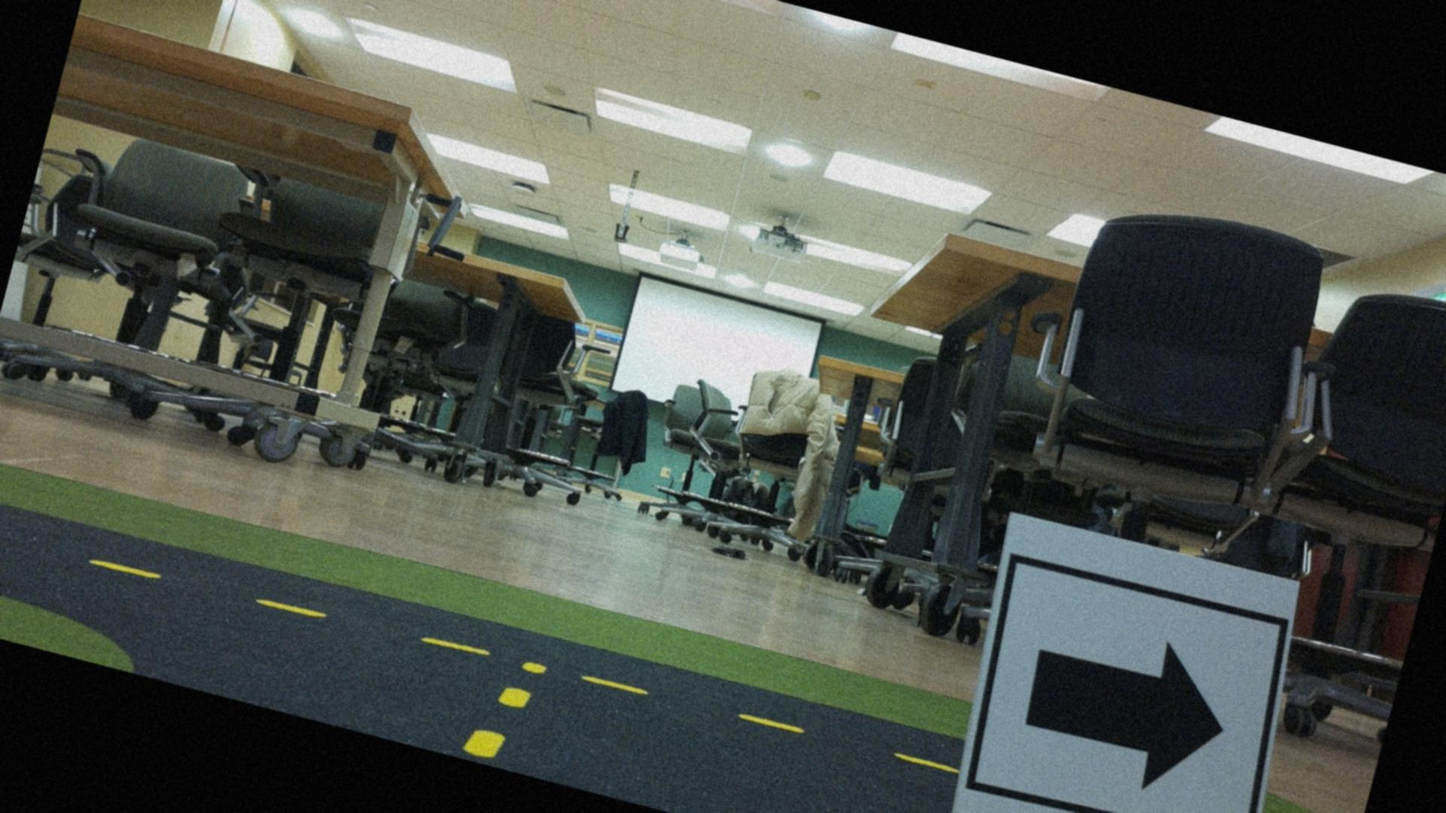turnleft: (947, 521, 1298, 812)
yellowline: (0, 502, 956, 793), (459, 647, 549, 768)
